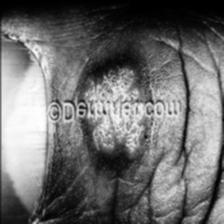Toxin: (78, 118, 156, 168), (74, 59, 156, 99)
